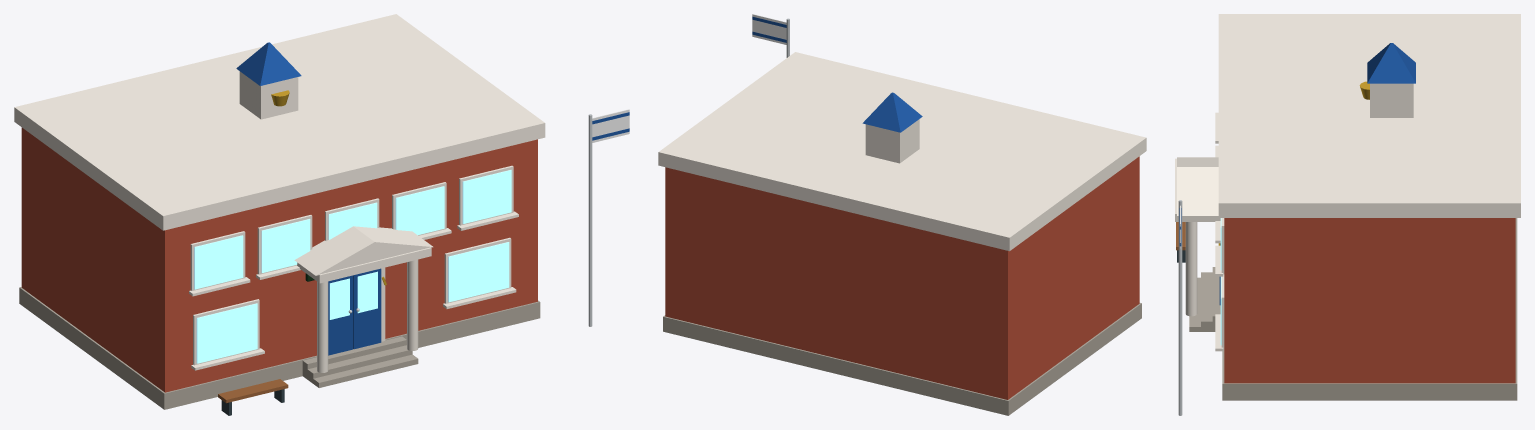
The model's file is foot_school.glb.
The picture shows the model from 3 angles, left to right: view 1: azimuth 30°, elevation 25°; view 2: azimuth 150°, elevation 25°; view 3: azimuth 270°, elevation 25°; orthographic projection. The views are drawn at different scales.
Parts seen in each view (by area): view 1: FootSchool_body; view 2: FootSchool_body; view 3: FootSchool_body.
Boxes of the visible parts, x1,y1,x2,y2 form: FootSchool_body: (14,14,629,415); FootSchool_body: (658,14,1146,415); FootSchool_body: (1175,14,1520,415).
Bounding box in the file's own units: 14.4 × 8 × 9.5.
